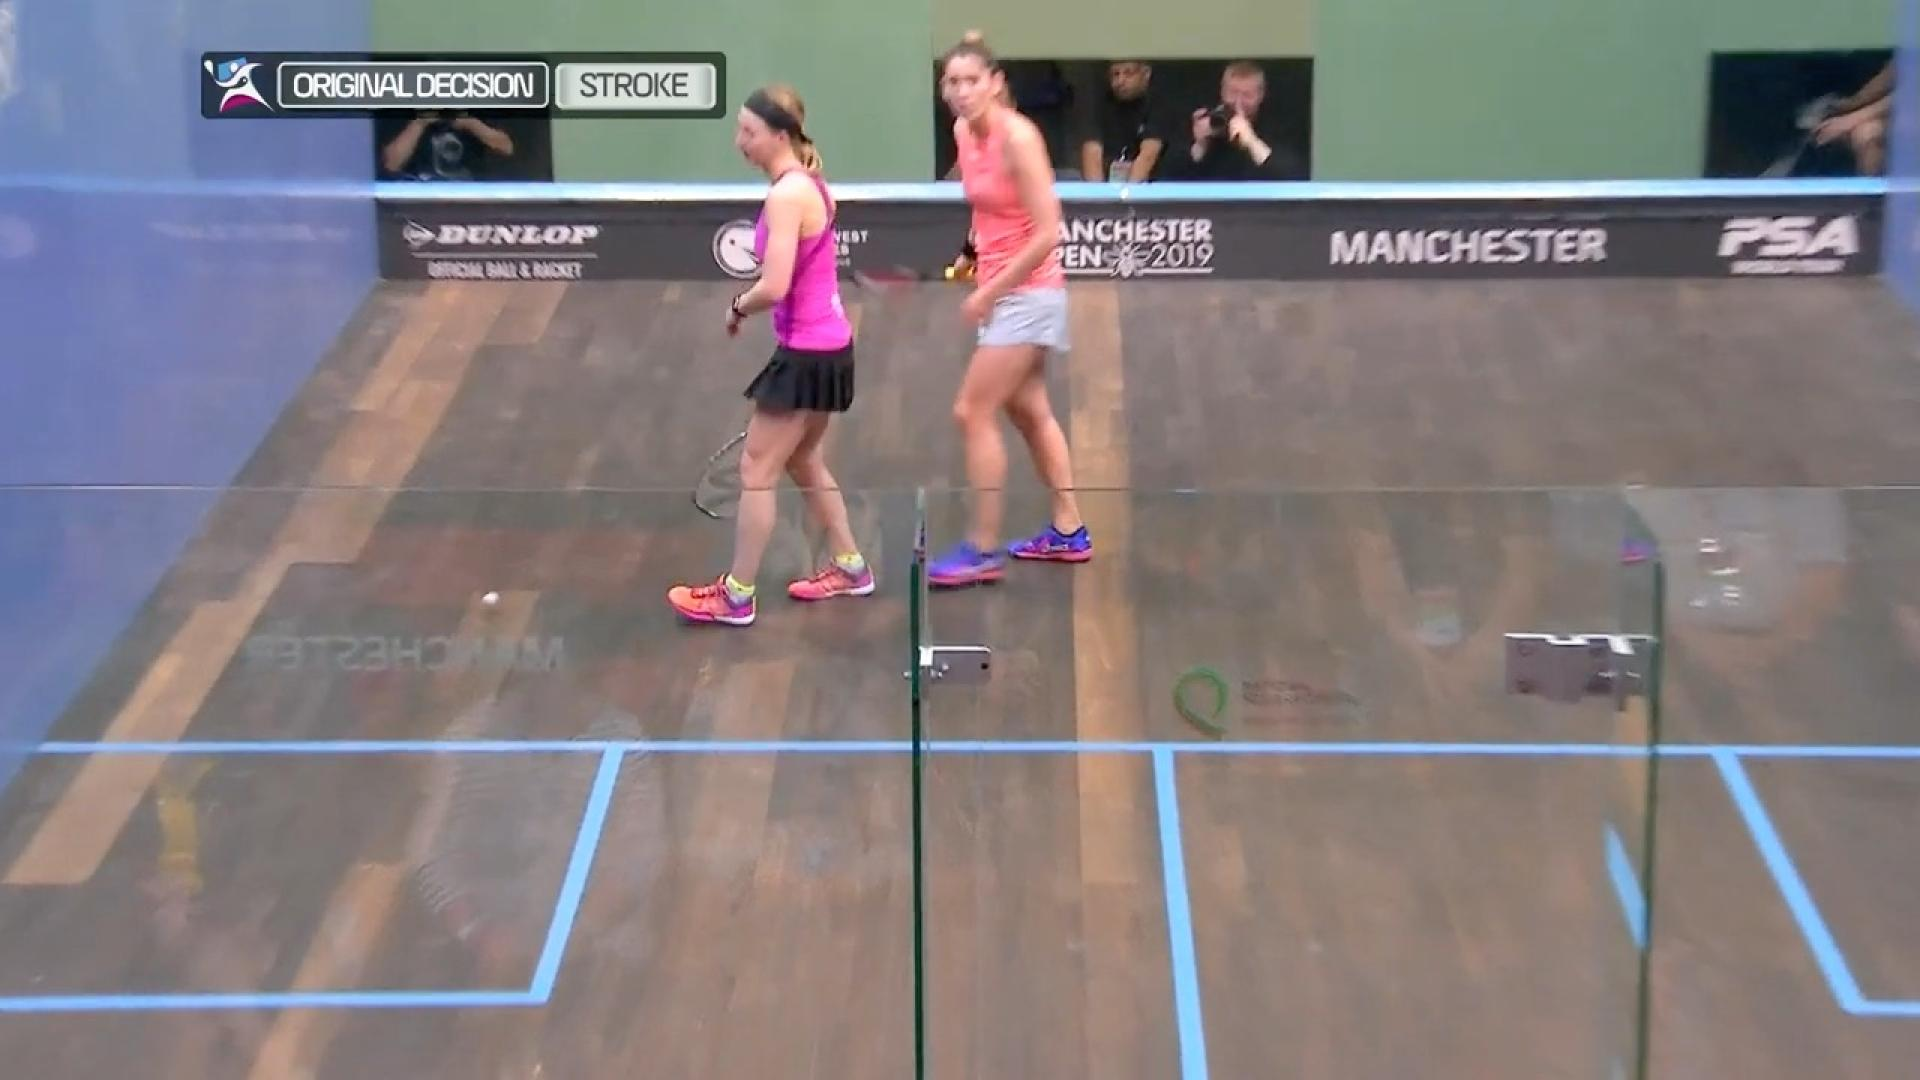Squash-Ball: (458, 558, 527, 641)
